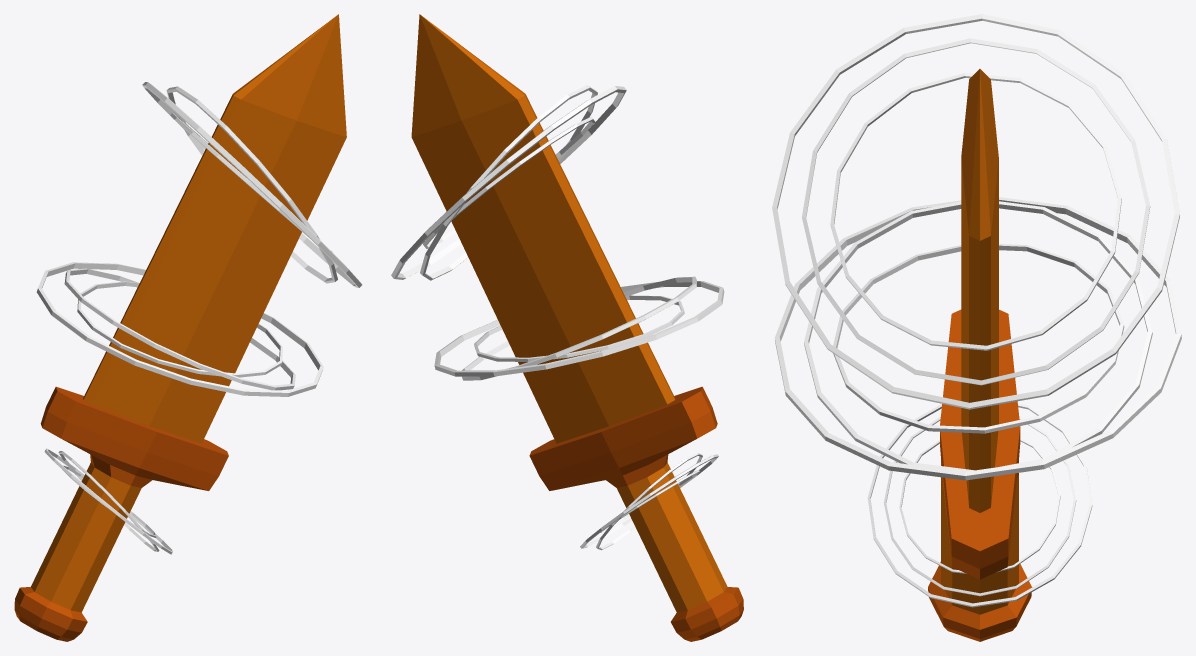
Rendered from stagger.glb.
3 views of the same model, side by side, from view 1: azimuth 30°, elevation 25°; view 2: azimuth 150°, elevation 25°; view 3: azimuth 270°, elevation 25° (orthographic). The views are drawn at different scales.
Visible parts, largest first — view 1: Daze; view 2: Daze; view 3: Daze.
Part boxes in pixels (bbox=[...]): Daze: bbox=[14, 14, 362, 641]; Daze: bbox=[391, 14, 743, 641]; Daze: bbox=[772, 14, 1181, 641].
Bounding box in the file's own units: 0.1089 × 0.1766 × 0.087.
2 materials, 2 textured.
